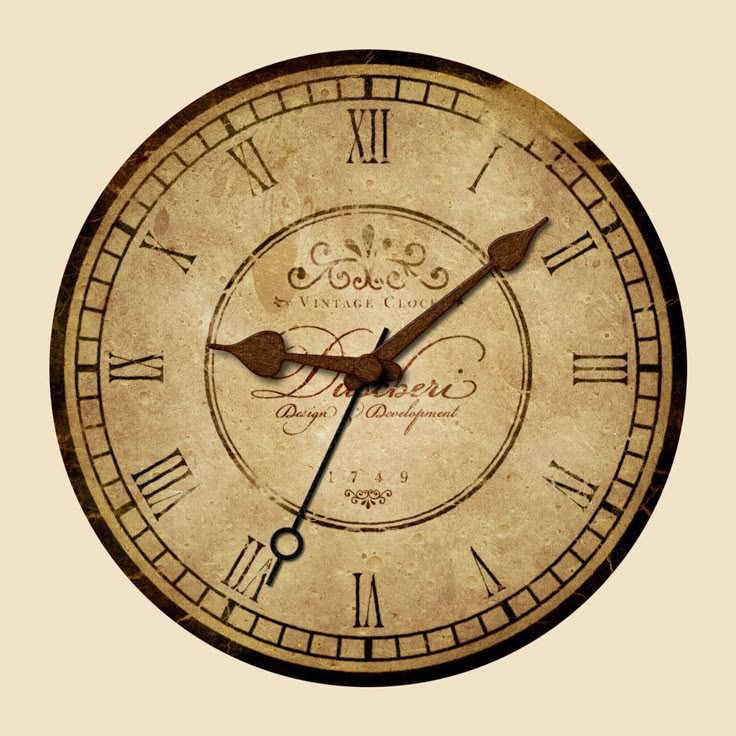clock: (45, 31, 717, 701)
